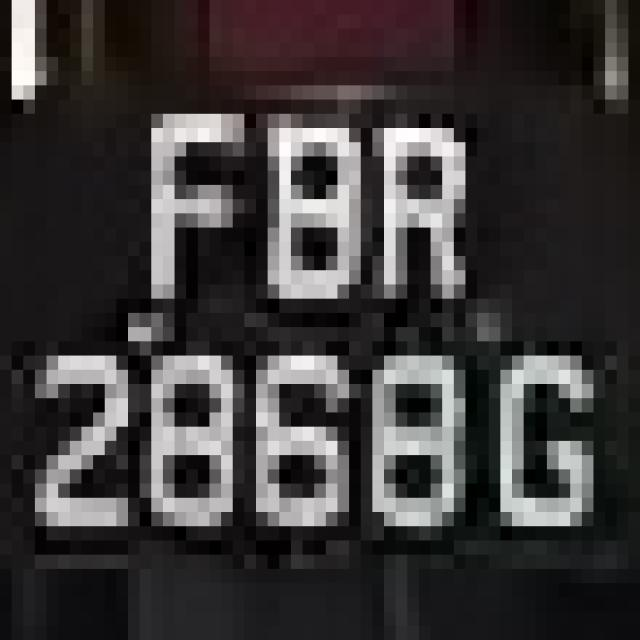2: (11, 270, 140, 612)
6: (221, 313, 372, 597)
8: (338, 327, 477, 583), (140, 313, 244, 540)
B: (209, 57, 384, 355)
F: (105, 43, 221, 313)
G: (489, 298, 593, 612)
R: (326, 57, 512, 355)
